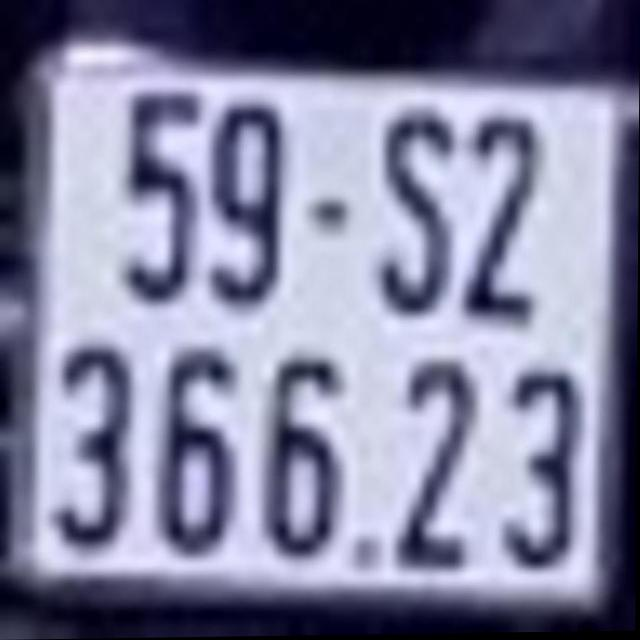2: (397, 353, 476, 568), (465, 117, 543, 319)
3: (52, 340, 138, 560), (499, 362, 586, 578)
5: (122, 88, 199, 304)
6: (158, 349, 245, 557), (263, 342, 342, 565)
9: (203, 97, 278, 305)
S: (376, 113, 456, 319)
